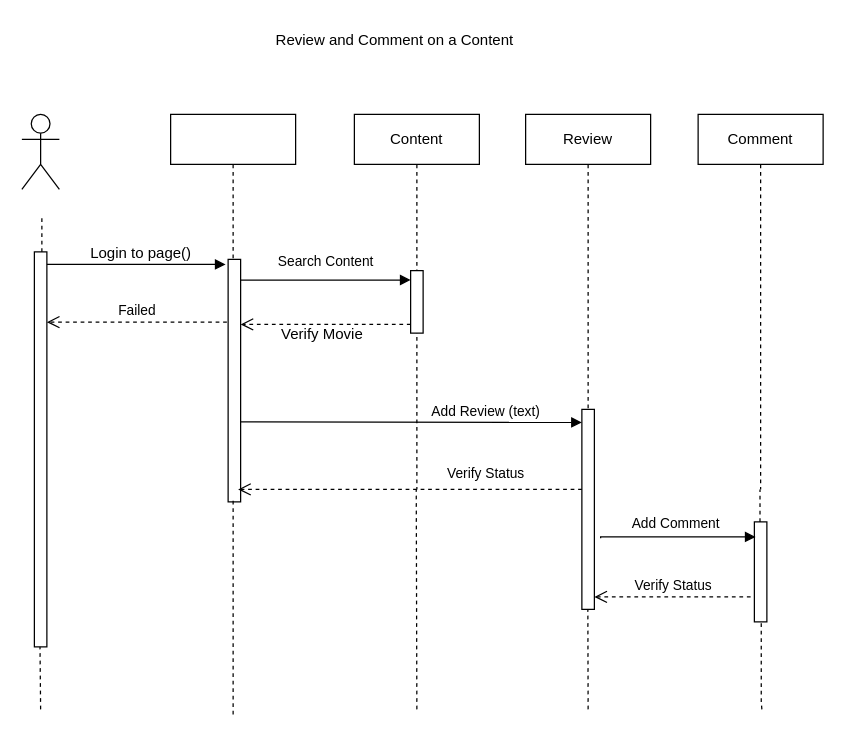
The diagram is 845 pixels wide and 738 high, and some of its shapes have lost their labels. Here are the shapes that lost their labels. From the top down, the box of each, then its label:
(21, 113, 59, 189): User
(169, 113, 296, 502): Login Page
